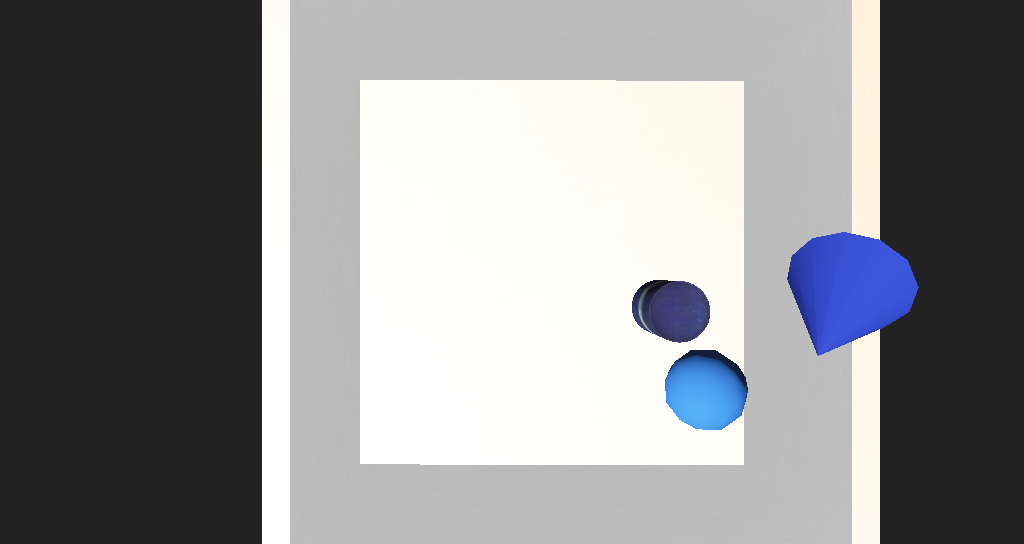cone: (566, 274, 620, 308)
cylinder: (613, 241, 775, 351)
sphere: (596, 313, 657, 356)
